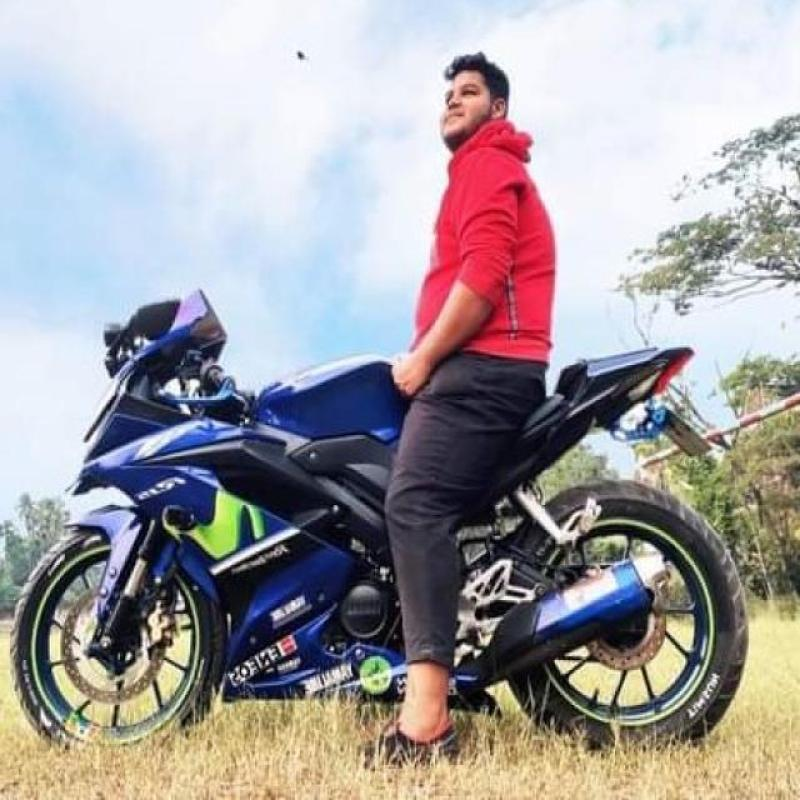nohelmet: (428, 53, 517, 148)
